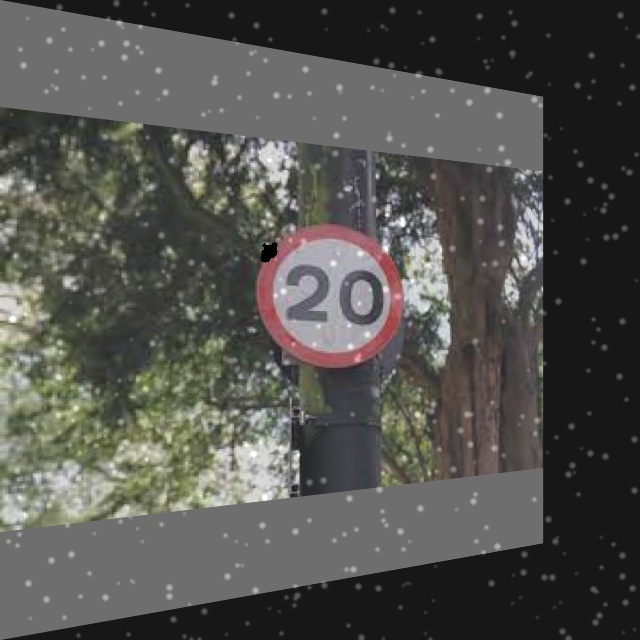Speed_Limit_20: (253, 221, 407, 369)
